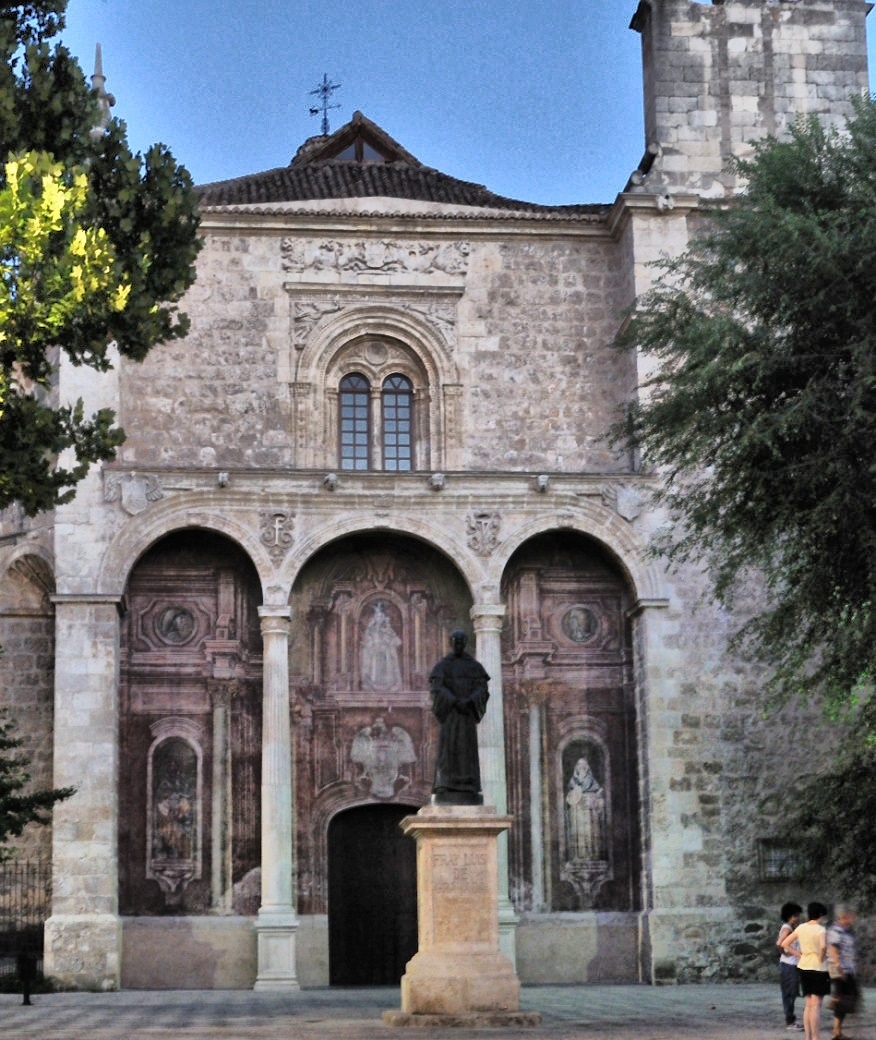arco-medio-punto: (276, 522, 487, 634), (109, 517, 274, 633), (493, 519, 655, 620), (322, 329, 440, 399)
